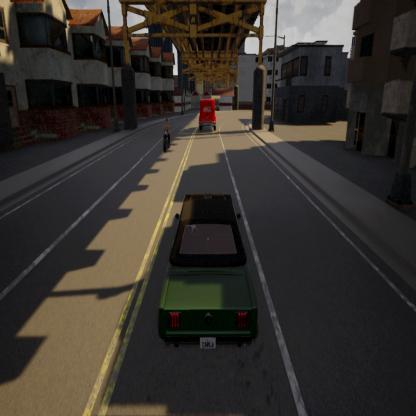Cars: (156, 194, 255, 349), (199, 96, 216, 133), (162, 118, 170, 151)
